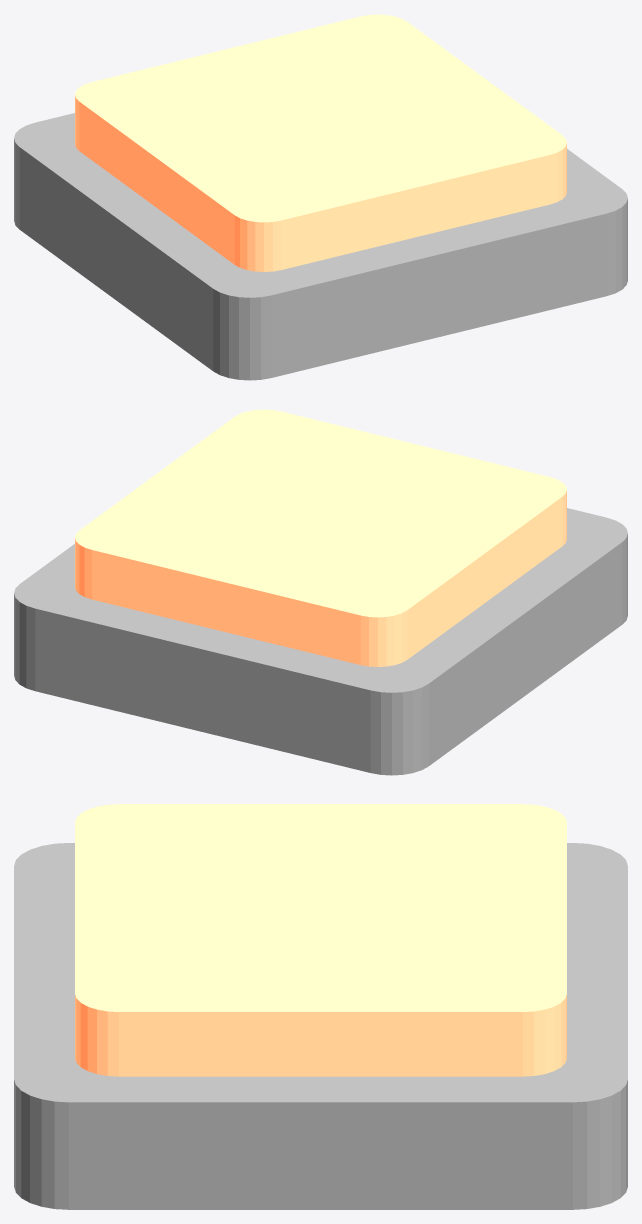
File: button.glb
3 renders of one model, top to bottom at view 1: azimuth 30°, elevation 25°; view 2: azimuth 150°, elevation 25°; view 3: azimuth 270°, elevation 25°, orthographic. The views are drawn at different scales.
Visible parts, largest first — view 1: top, bot; view 2: top, bot; view 3: top, bot.
Part boxes in pixels (bbox=[...]): top: bbox=[75, 14, 566, 271]; bot: bbox=[14, 113, 627, 380]; top: bbox=[75, 409, 566, 666]; bot: bbox=[14, 508, 627, 775]; top: bbox=[75, 804, 566, 1076]; bot: bbox=[14, 843, 627, 1209].
Size of the model in its own units: 2 by 0.6184 by 2.
